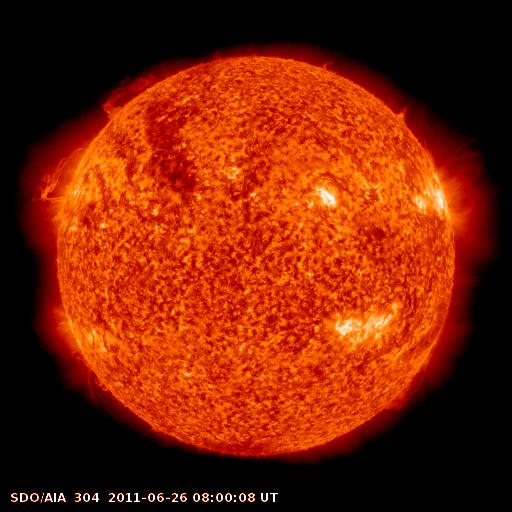prominence: (48, 312, 113, 401), (90, 66, 166, 125), (378, 348, 437, 416), (29, 146, 91, 207), (386, 92, 416, 125), (313, 50, 346, 80)
